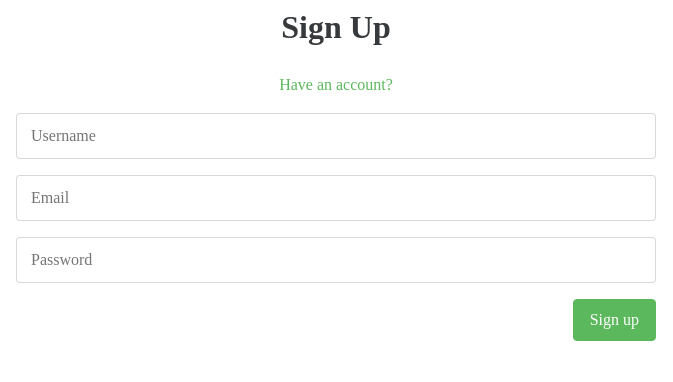
Test case: Register form › [TC-014] [unit] shows the error when the API rejects a blank password
Click the button "Sign up": (614, 320) left=573, top=299, right=656, bottom=341
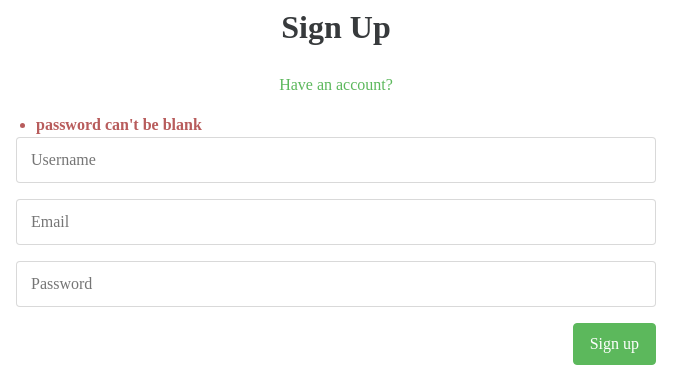
Result: the list item "password can't be blank" is shown at left=36, top=116, right=202, bottom=133
